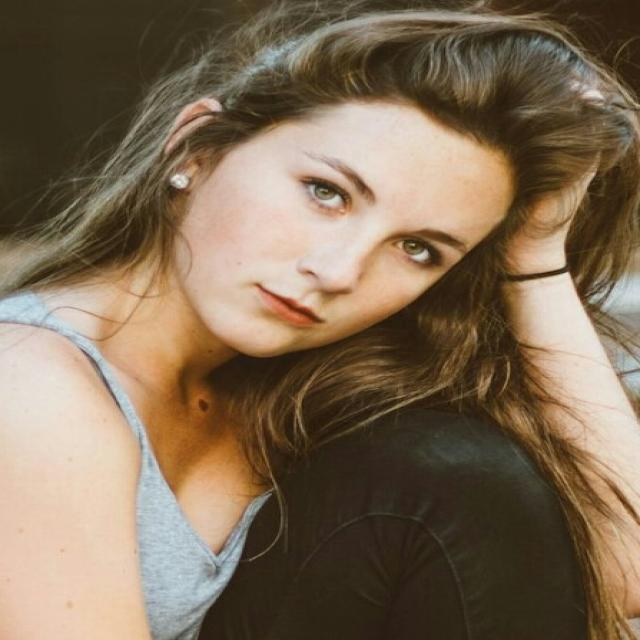front: (224, 153, 413, 341)
